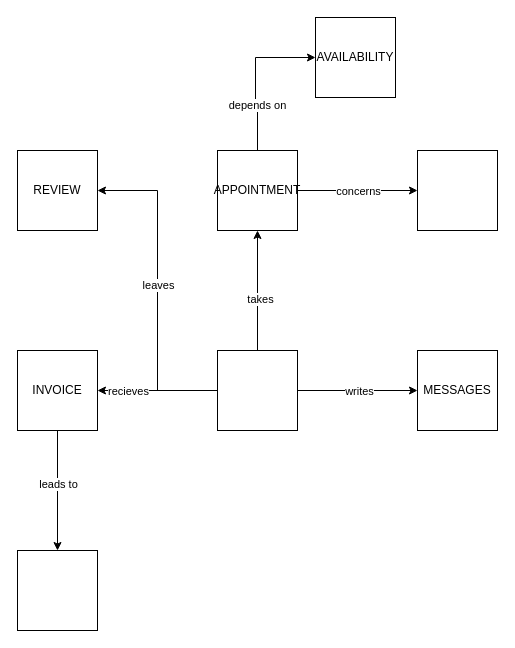
This 515x648 diagram has some shape labels left out. Here are the shapes that lost their labels. From the top down, the centre of each, then its label:
the point at 457,190: SESSION
the point at 257,390: USER
the point at 57,590: PAYMENT
